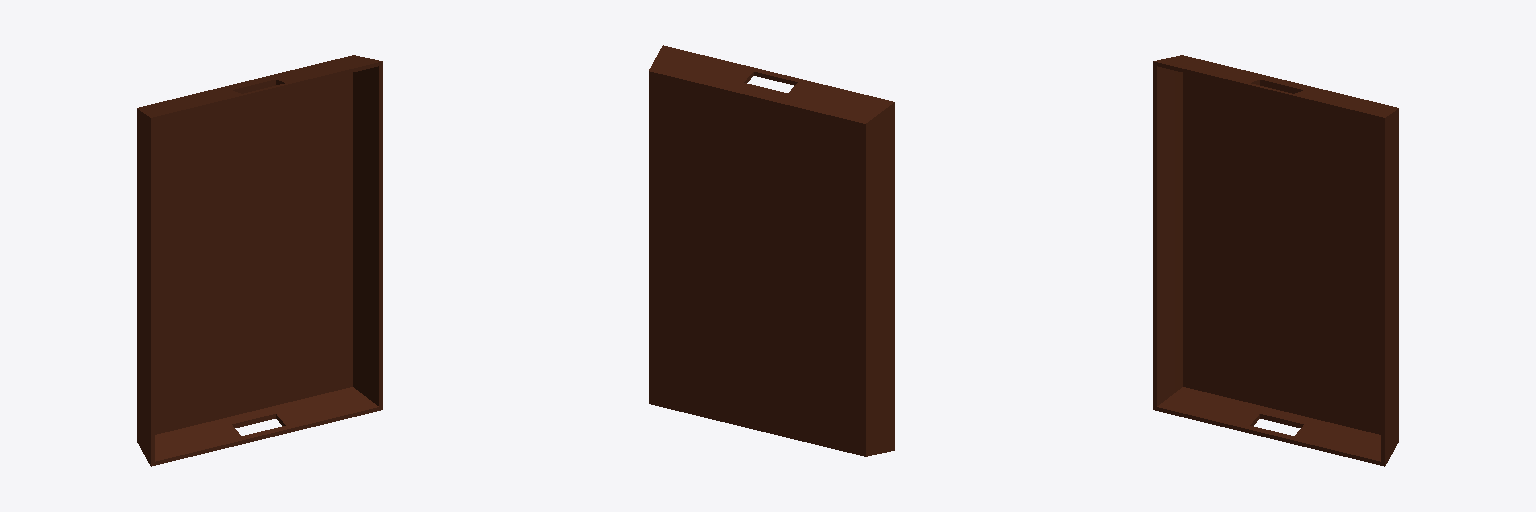
The model's file is wicker_tray_visual.obj.
The picture shows the model from 3 angles: view 1: azimuth 30°, elevation 25°; view 2: azimuth 150°, elevation 25°; view 3: azimuth 330°, elevation 25°; orthographic projection.
Visible parts, largest first — view 1: tray-lib; view 2: tray-lib; view 3: tray-lib.
Part boxes in pixels (left/top/right/bottom): tray-lib: left=137, top=55, right=382, bottom=466; tray-lib: left=649, top=45, right=894, bottom=456; tray-lib: left=1153, top=55, right=1398, bottom=466.
Size of the model in its own units: 0.46 by 0.66 by 0.075.